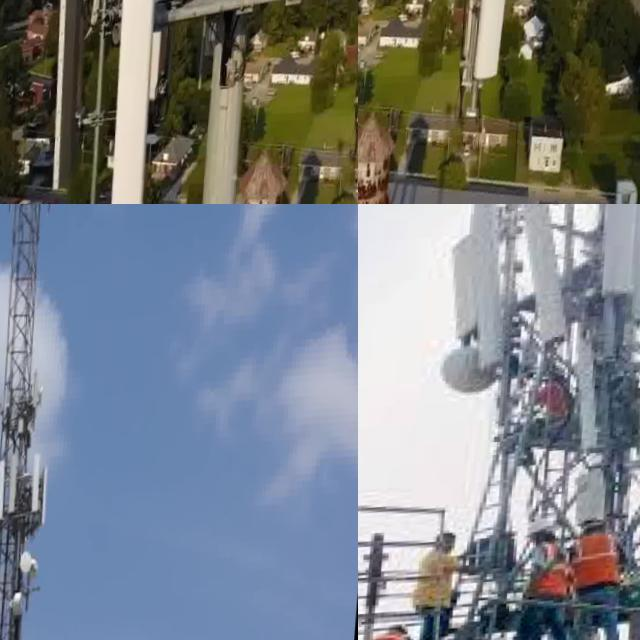GSM Antenna: (91, 0, 185, 204), (486, 204, 596, 361), (35, 0, 110, 204), (451, 204, 531, 374), (463, 0, 537, 118), (583, 204, 640, 312), (153, 0, 190, 118), (39, 463, 57, 542), (28, 460, 46, 537), (7, 458, 24, 527), (0, 461, 12, 534)
Microwave Antenna: (434, 346, 505, 409), (13, 593, 34, 624), (25, 552, 42, 588), (39, 388, 50, 421), (35, 563, 47, 583), (0, 398, 4, 429)
